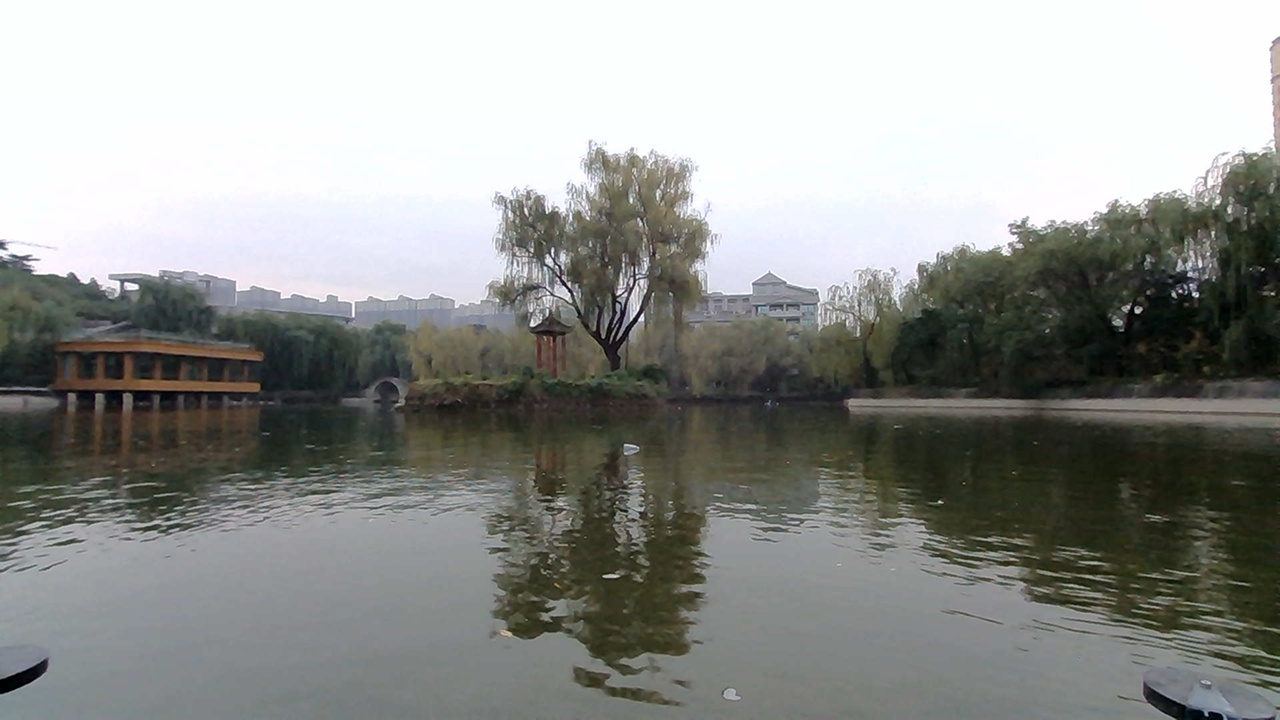bottle: (601, 429, 665, 462)
